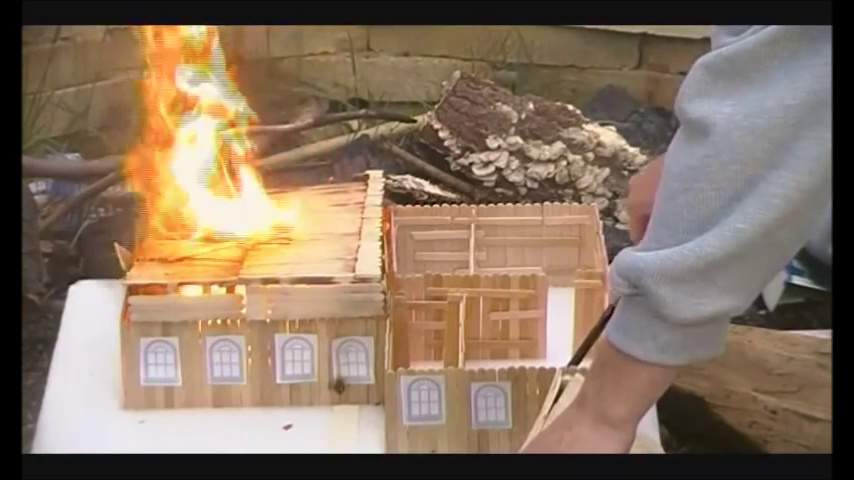fire: (122, 26, 267, 239)
